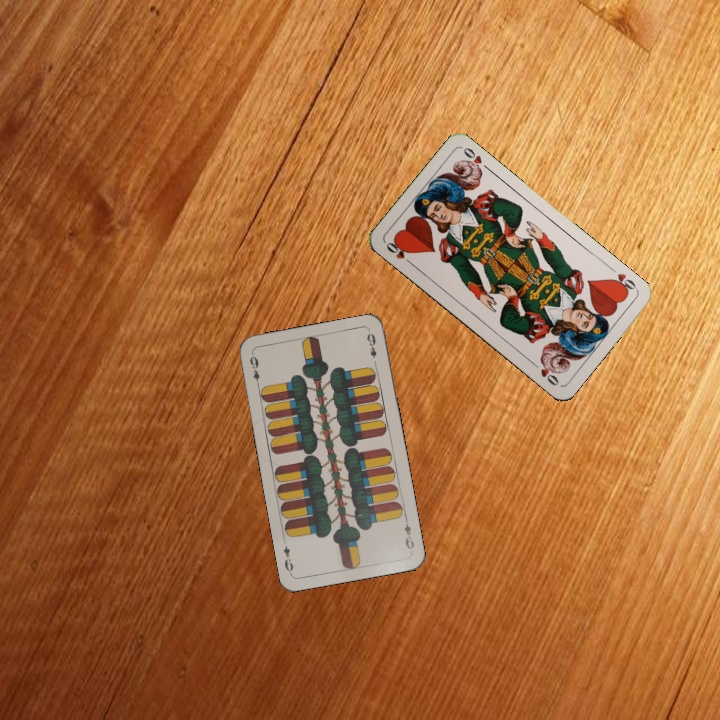E9: (246, 352, 262, 390), (401, 514, 416, 552)
HO: (605, 263, 639, 296), (382, 236, 416, 268)
